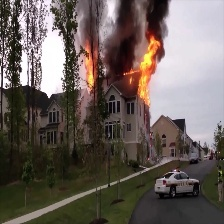fire: (128, 32, 160, 106), (84, 39, 97, 88)
